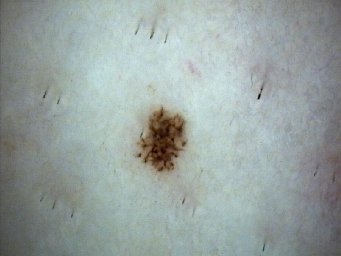melanoma: (136, 106, 188, 175)
